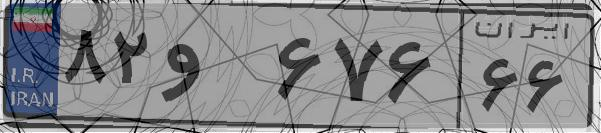2: (110, 28, 158, 98)
6: (270, 28, 330, 110), (385, 28, 445, 110), (475, 38, 525, 113), (525, 38, 570, 115)
7: (330, 28, 385, 110)
8: (57, 26, 110, 100)
و: (158, 20, 270, 120)
